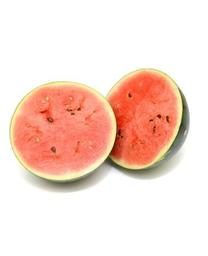watermelon: (8, 67, 193, 183)
